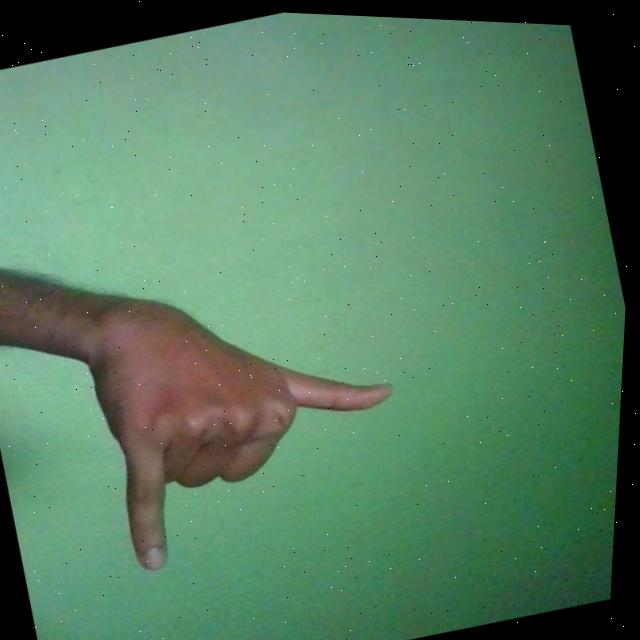Call Me: (68, 229, 435, 583)
